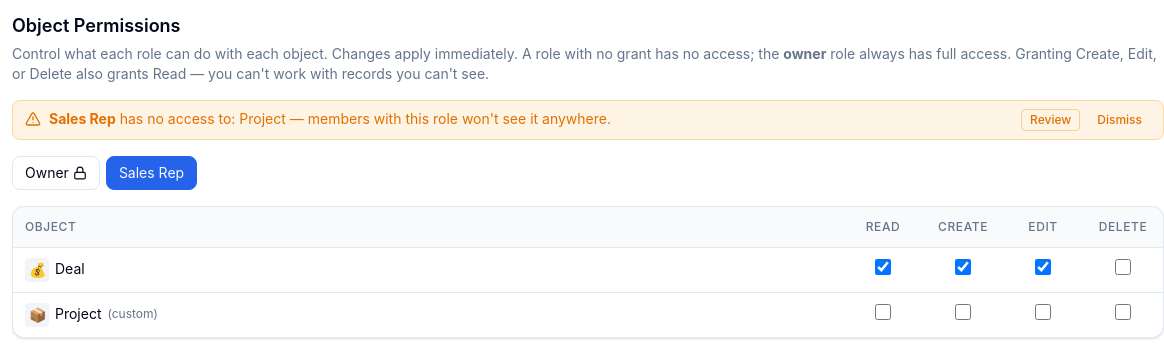
Test: PermissionsManager — role × object grid › names who cannot see what in the zero-access banner, and Dismiss hides that pair
The image size is (1164, 356).
Expected: the text "Deal" is shown, [55,259,85,276]
Expected: the text "Sales Rep" is shown, [49,110,116,127]
Click the button with aria-label "Dismiss Sales Rep access warning" at (1120, 120), box [1088,109,1151,131]
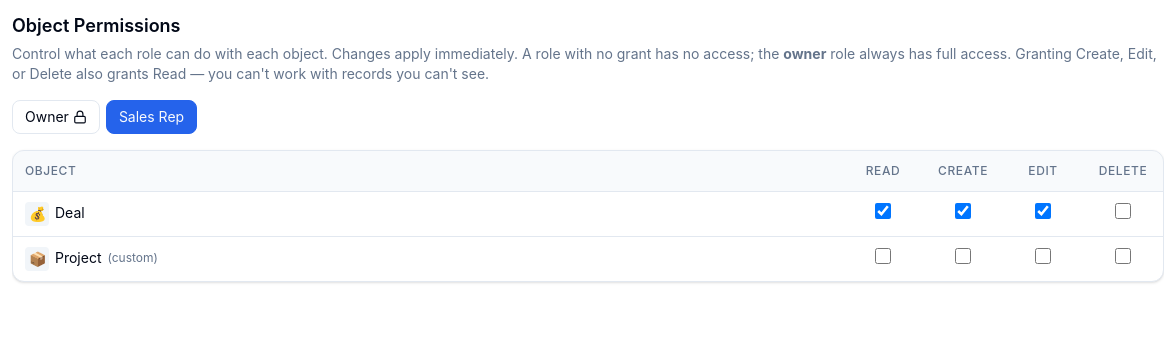
Now the text "has no access to" is gone
